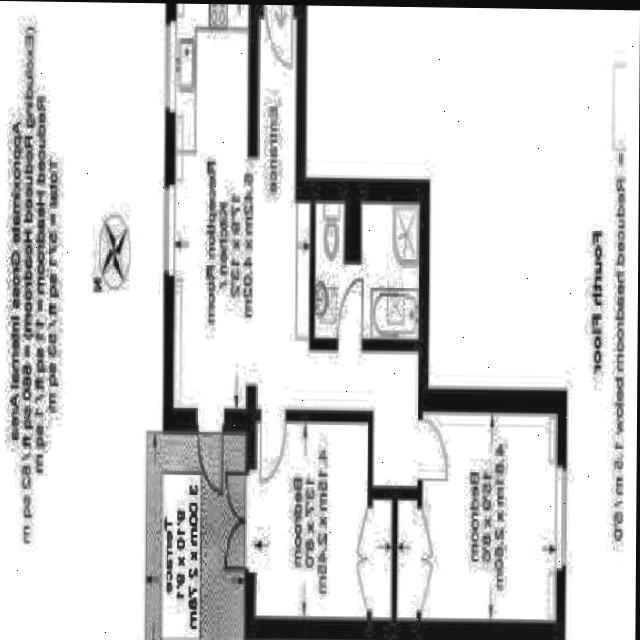room: (172, 3, 419, 485), (397, 413, 554, 619), (254, 419, 392, 617), (314, 201, 419, 338)
